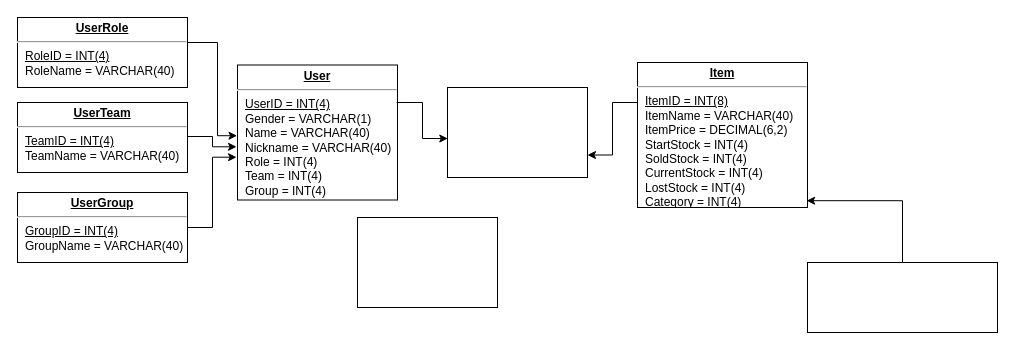
Some shapes in this 1015 by 350 pixel diagram are drawn without their labels. The centre of each missing label's shape, as x and y in pixels:
Category CategoryID = INT(4) CategoryName = VARCHAR(40): (x=902, y=297)
Multipliers MulID = INT(12) MulValue = INT(3): (x=427, y=262)
Transaction TransID = INT(10) UserID = INT(4) Item = INT(8) Multiplier = INT(3): (x=517, y=132)
